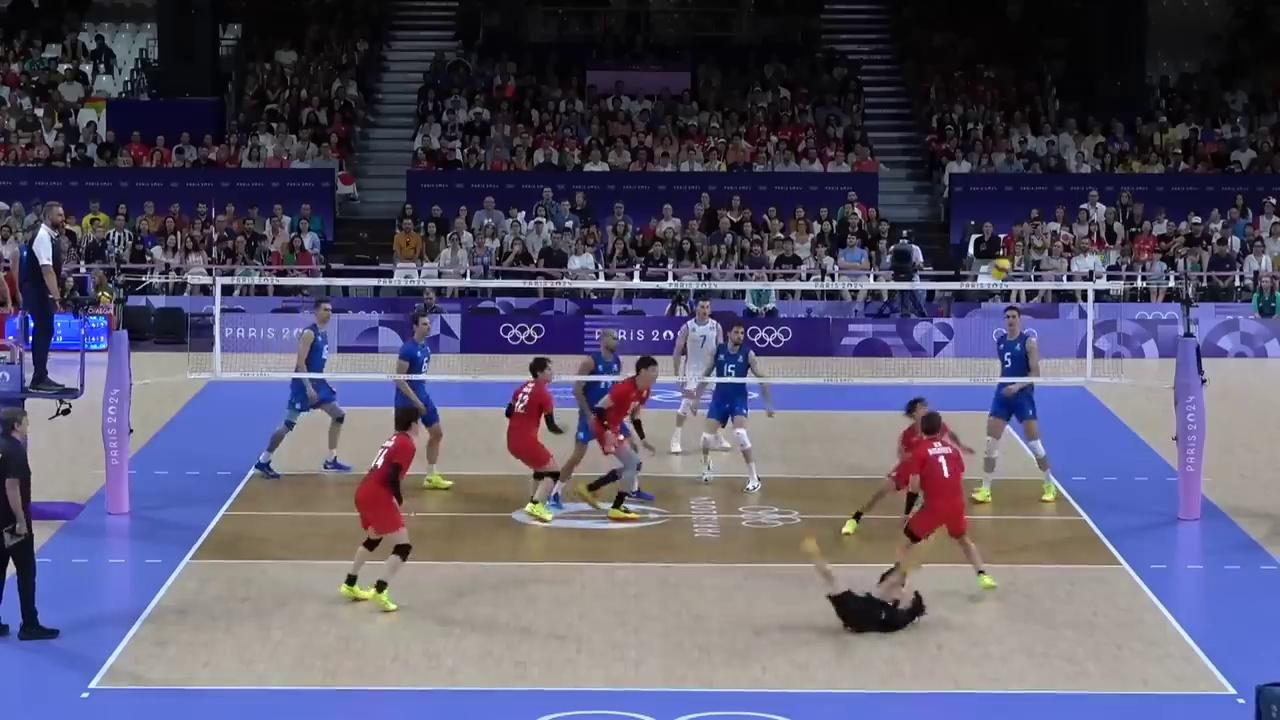ball: (989, 258, 1011, 281)
